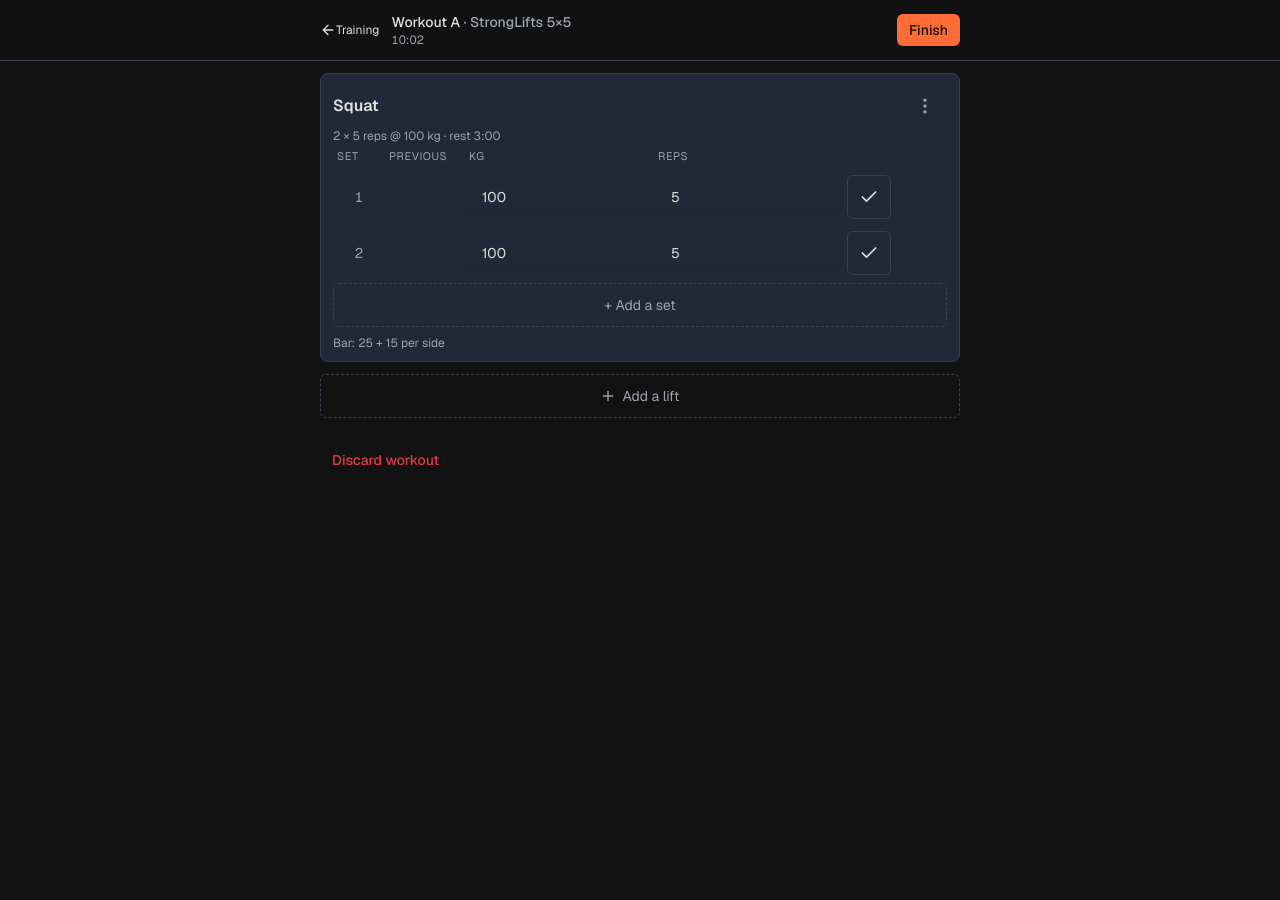
Scenario: throwing a workout away › says there is nothing to lose when nothing is ticked
Click the button with test id "discard-workout" at (386, 460), box top-left (320, 438), bottom-right (451, 482)
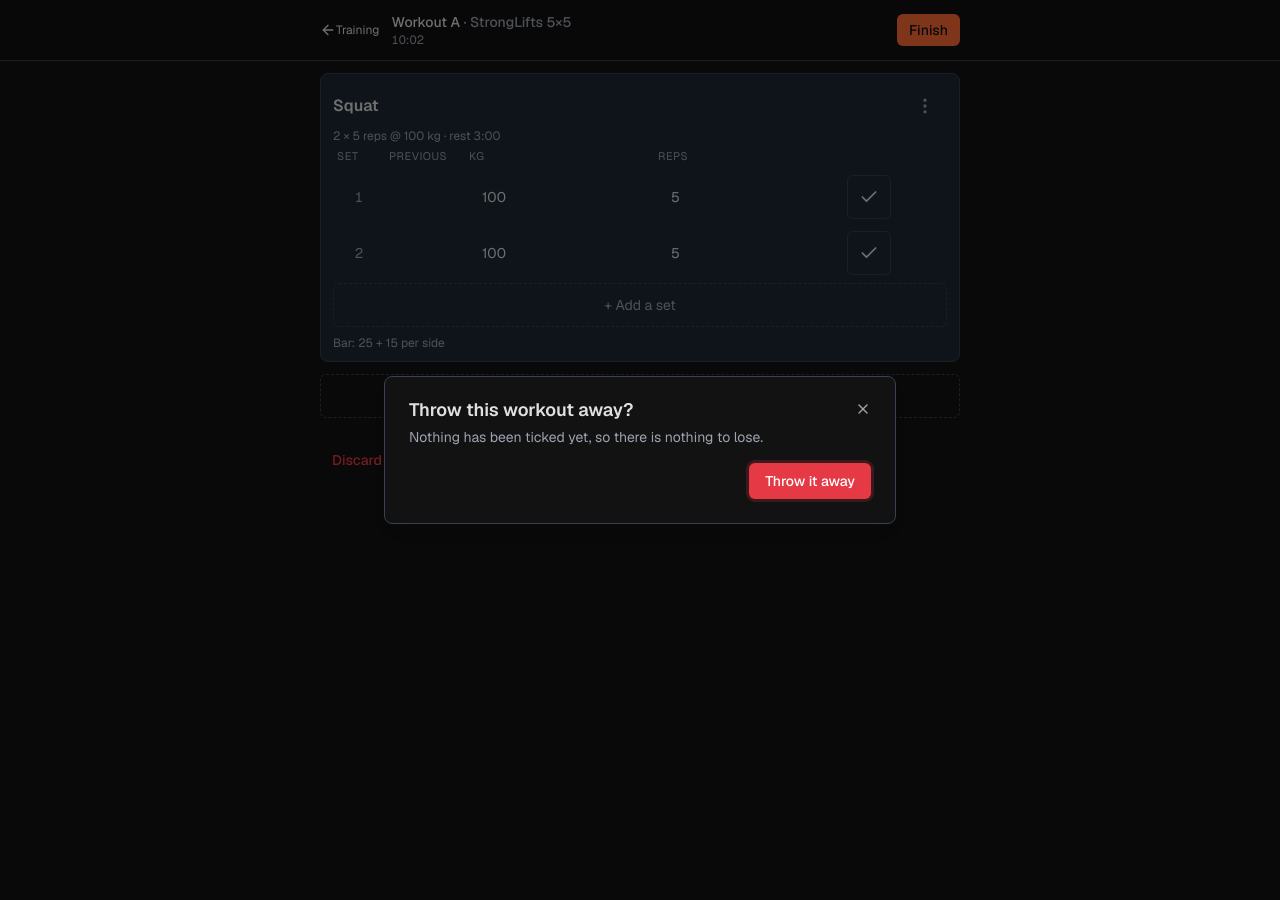
Check: the text "Nothing has been ticked yet, so there is nothing to lose." is shown, box top-left (409, 428), bottom-right (763, 446)
